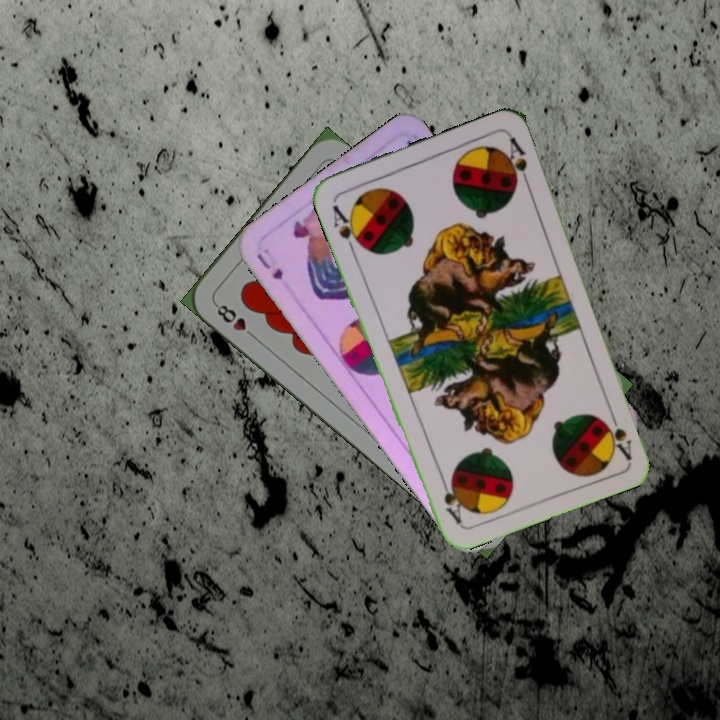H8: (210, 299, 259, 342)
SA: (328, 200, 366, 255), (600, 405, 635, 462)
SU: (252, 249, 286, 283)
